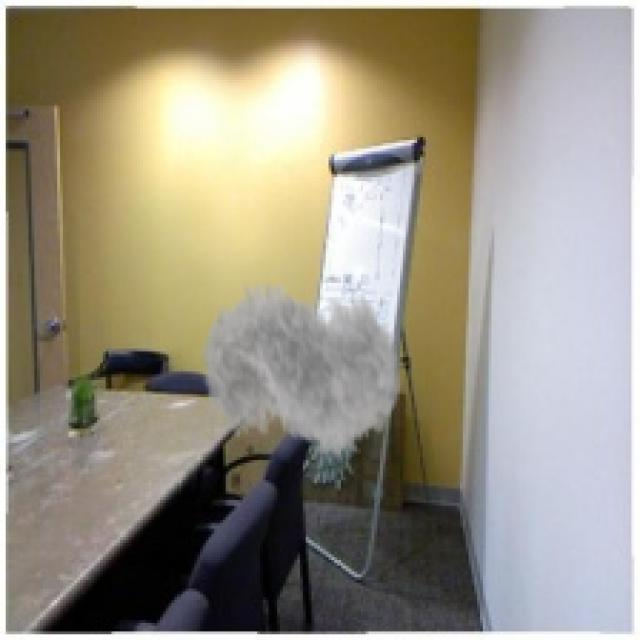Smoke: (200, 257, 403, 474)
